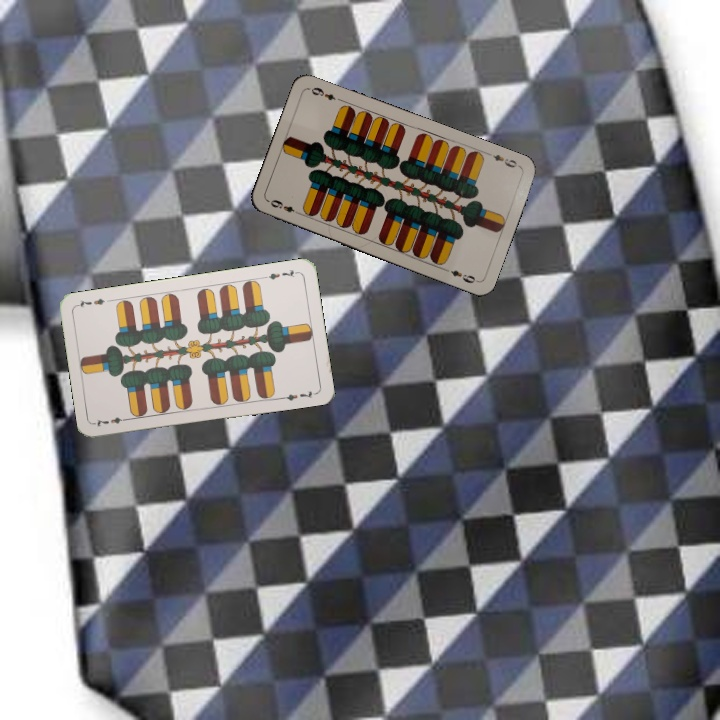E7: (260, 265, 300, 282), (91, 413, 132, 429)
E9: (264, 195, 303, 217), (484, 149, 522, 170)
